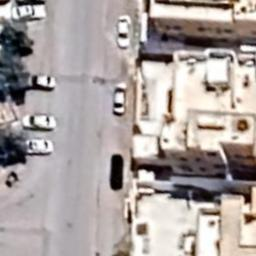sedan: (18, 136, 56, 156), (21, 113, 56, 131), (20, 74, 58, 90), (108, 153, 124, 191), (117, 14, 132, 48), (112, 80, 126, 116)
van: (10, 4, 47, 22)
